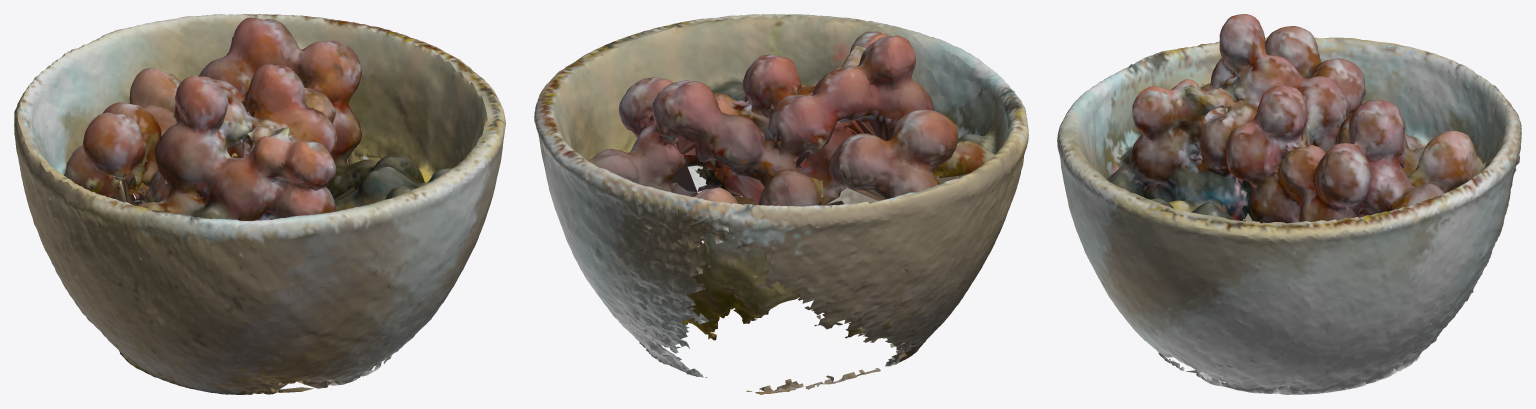
File: obj_bowl_of_fruit_8d6355.glb
The picture shows the model from 3 angles, left to right: view 1: azimuth 30°, elevation 25°; view 2: azimuth 150°, elevation 25°; view 3: azimuth 270°, elevation 25°; orthographic projection. The views are drawn at different scales.
Visible parts, largest first — view 1: obj_bowl_of_fruit_8d6355; view 2: obj_bowl_of_fruit_8d6355; view 3: obj_bowl_of_fruit_8d6355.
Boxes of the visible parts, x1=… form: obj_bowl_of_fruit_8d6355: x1=14, y1=14, x2=505, y2=394; obj_bowl_of_fruit_8d6355: x1=534, y1=14, x2=1028, y2=394; obj_bowl_of_fruit_8d6355: x1=1057, y1=14, x2=1521, y2=394.
Bounding box in the file's own units: 0.2 × 0.1321 × 0.198.
